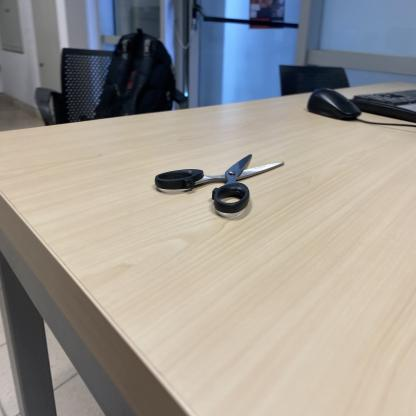scissors: (152, 150, 288, 219)
